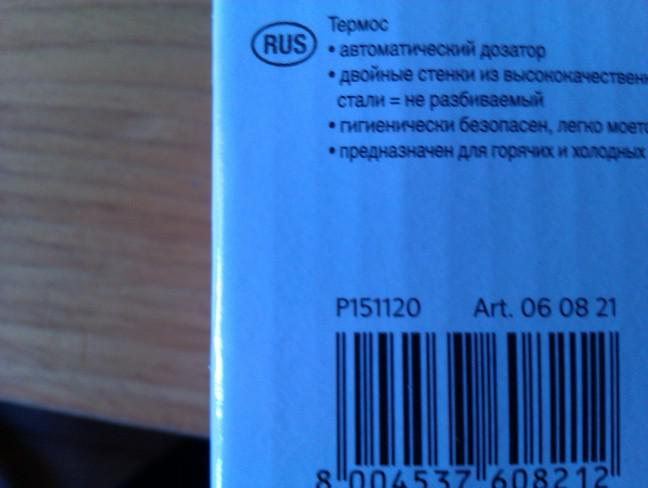Barkod: (291, 322, 631, 478)
